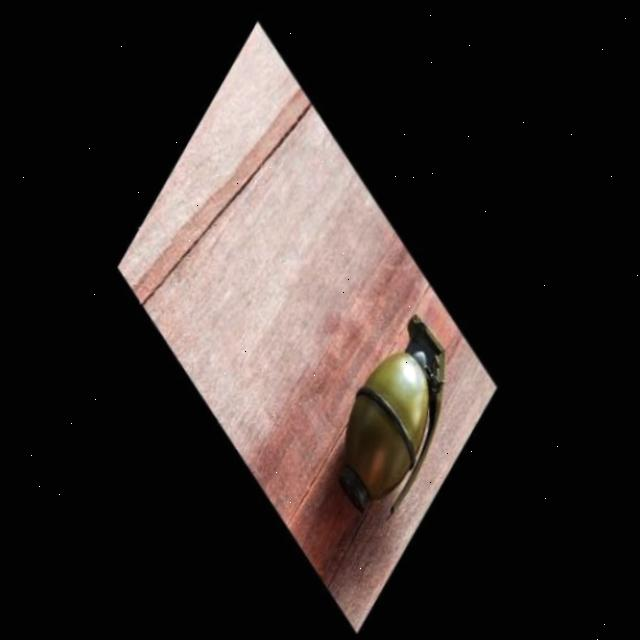grenade: (307, 290, 480, 547)
